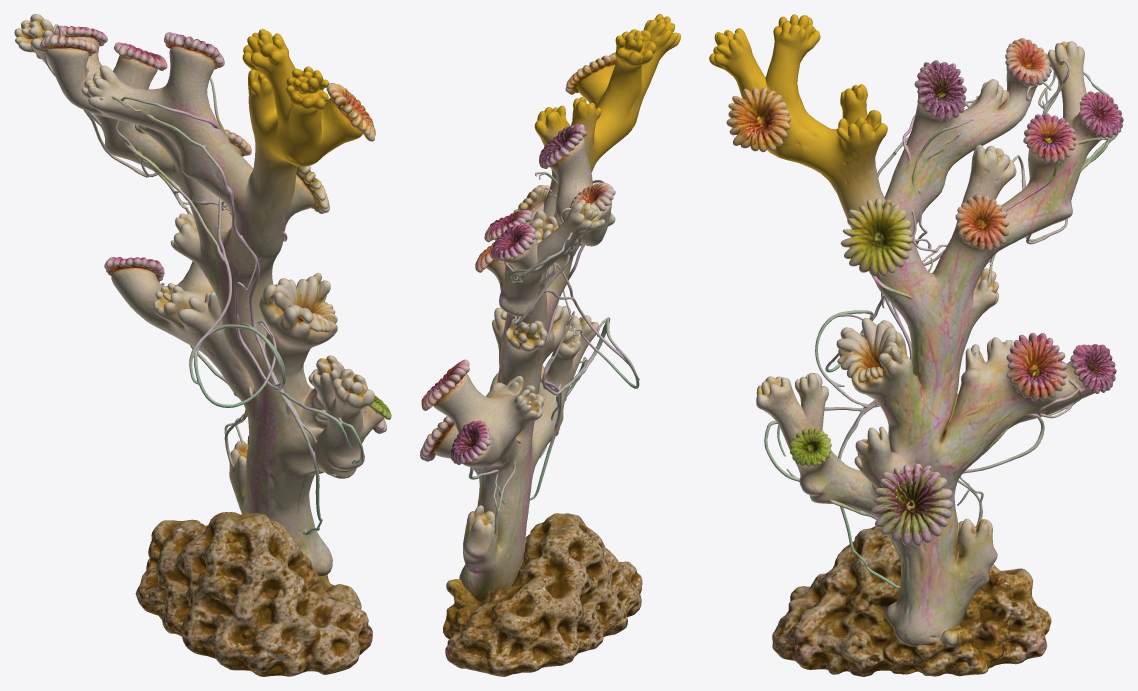
The picture shows the model from 3 angles, left to right: view 1: azimuth 30°, elevation 25°; view 2: azimuth 150°, elevation 25°; view 3: azimuth 270°, elevation 25°; orthographic projection. The views are drawn at different scales.
Size of the model in its own units: 0.4529 by 0.9998 by 0.6167.
Materials: 1 (1 with a texture image).
